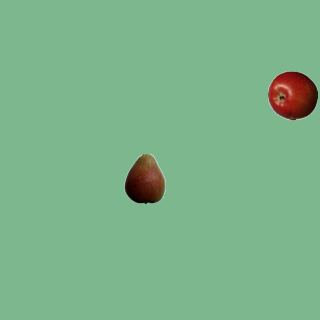Apple Braeburn: (267, 70, 317, 120)
Pear Forelle: (119, 153, 169, 203)
